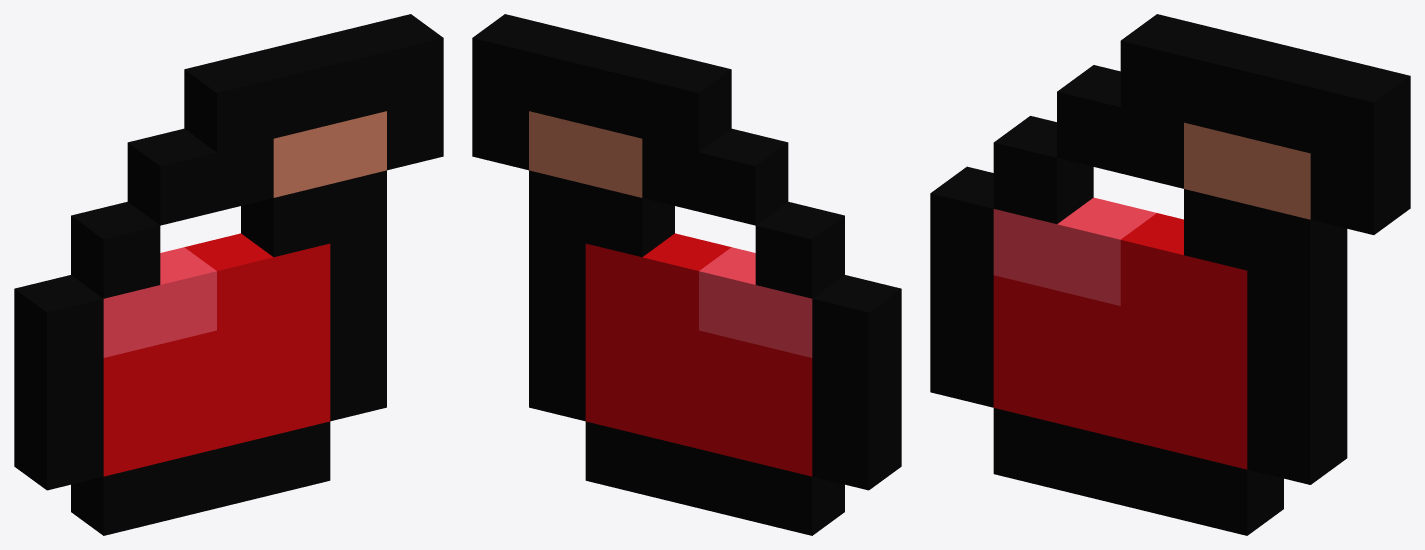
Rendered from Splash Heat Resistance Potion.glb.
3 views of the same model, side by side, from view 1: azimuth 30°, elevation 25°; view 2: azimuth 150°, elevation 25°; view 3: azimuth 330°, elevation 25° (orthographic). The views are drawn at different scales.
Parts seen in each view (by area): view 1: generated(Clone); view 2: generated(Clone); view 3: generated(Clone).
Part boxes in pixels (left/top/right/bottom): generated(Clone): left=14, top=14, right=443, bottom=535; generated(Clone): left=472, top=14, right=901, bottom=535; generated(Clone): left=930, top=14, right=1410, bottom=535.
Bounding box in the file's own units: 7 × 7 × 1.
1 material, 1 textured.
